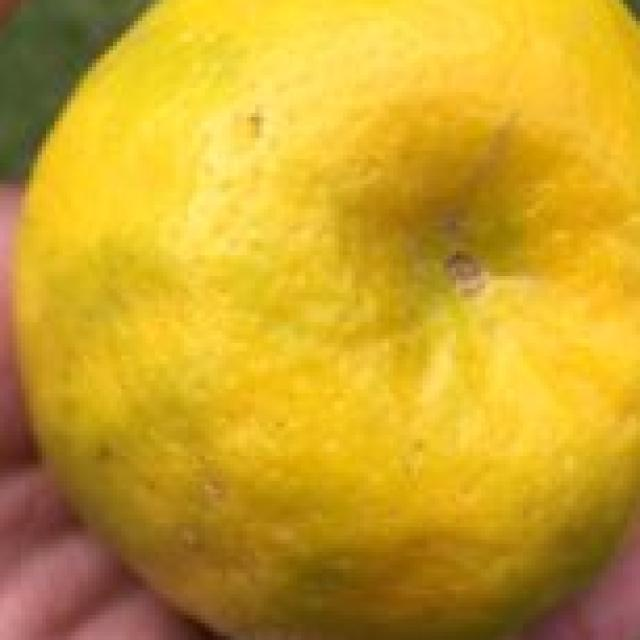Bad_Orange-0-1 day: (8, 0, 640, 640)
